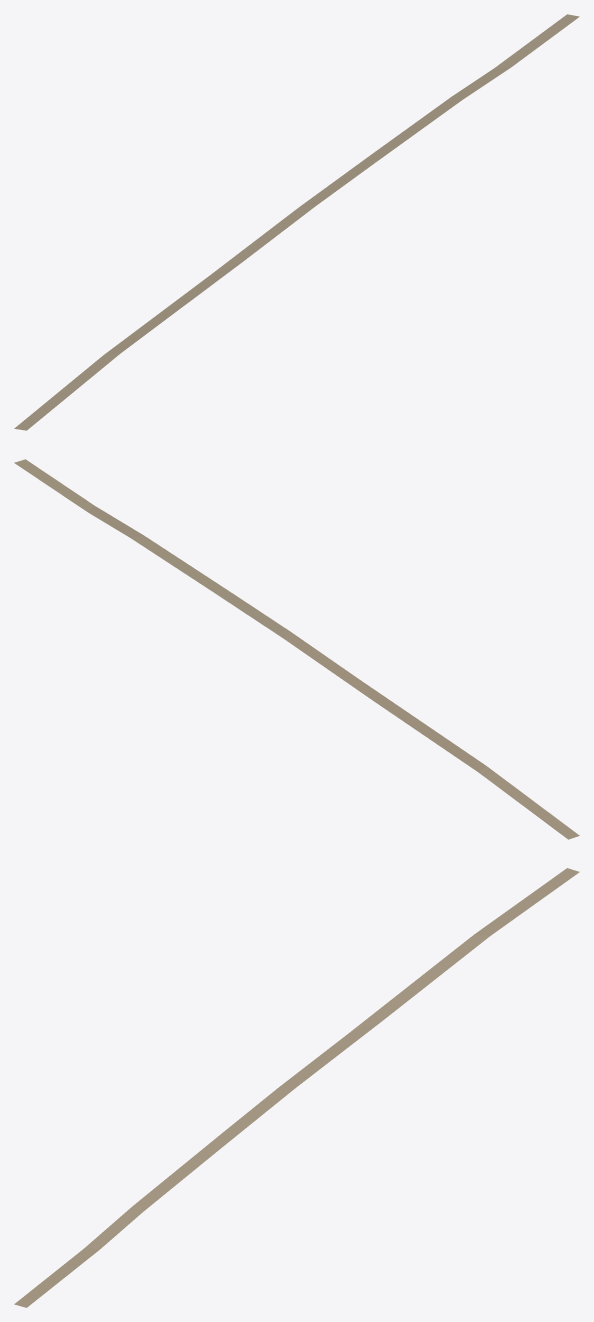
Rendered from farm_8_9_track.glb.
3 views of the same model, one above another, from view 1: azimuth 90°, elevation 25°; view 2: azimuth 150°, elevation 25°; view 3: azimuth 270°, elevation 25° (orthographic). The views are drawn at different scales.
Visible parts, largest first — view 1: geometry_0; view 2: geometry_0; view 3: geometry_0.
Part boxes in pixels (bbox=[...]): geometry_0: bbox=[14, 14, 579, 430]; geometry_0: bbox=[14, 459, 579, 839]; geometry_0: bbox=[14, 868, 579, 1307].
Bounding box in the file's own units: 228 × 4.17 × 128.
